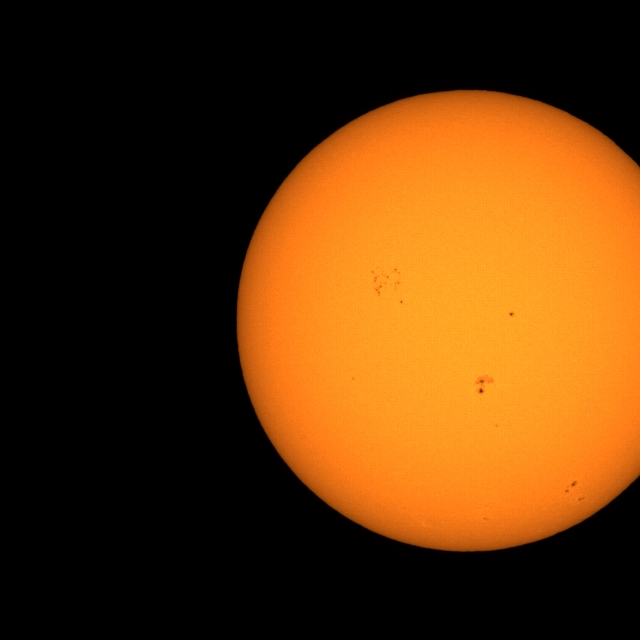sunspot: (370, 266, 402, 299), (475, 375, 495, 395), (564, 479, 578, 495), (482, 516, 490, 522), (578, 496, 586, 502), (508, 311, 515, 317), (494, 423, 499, 428), (399, 300, 404, 304), (351, 376, 355, 381)
